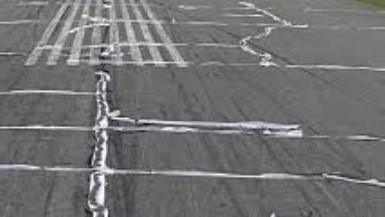crack: (84, 20, 126, 217), (130, 118, 315, 137), (287, 170, 369, 188), (36, 165, 61, 215), (33, 2, 43, 32)
